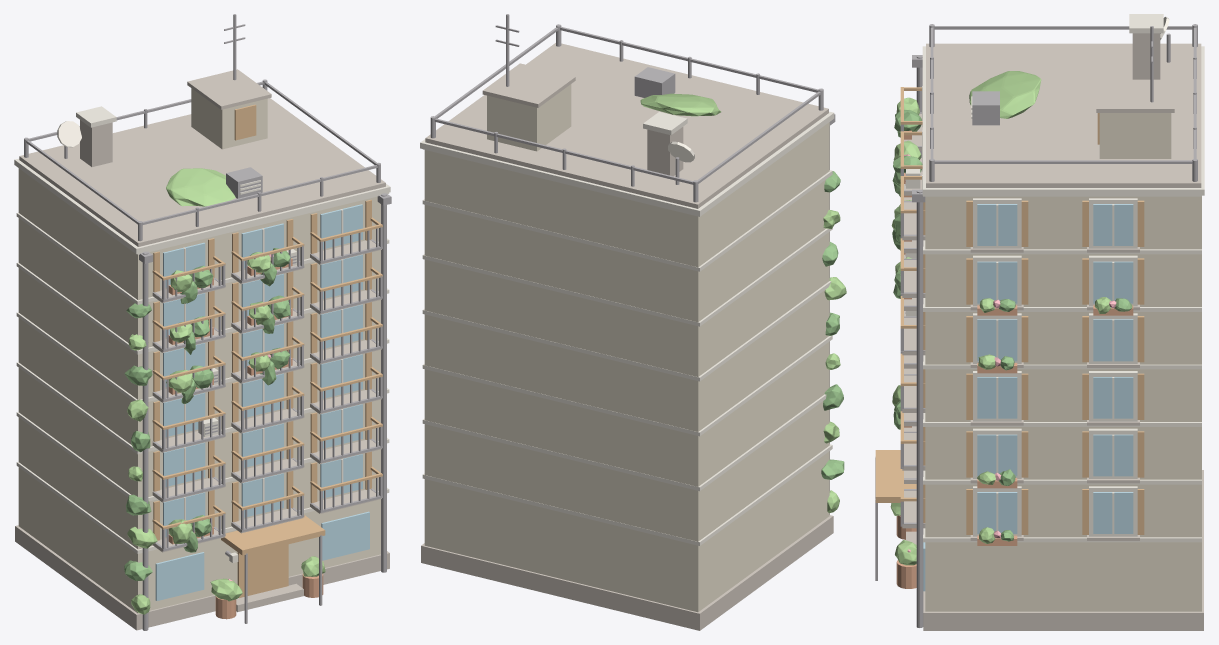
Rendered from Building_Apartment_C.fbx.
3 views of the same model, side by side, from view 1: azimuth 30°, elevation 25°; view 2: azimuth 150°, elevation 25°; view 3: azimuth 270°, elevation 25° (orthographic). The views are drawn at different scales.
Parts seen in each view (by area): view 1: Building_Apartment_C, Building_Apartment_C_Veg; view 2: Building_Apartment_C, Building_Apartment_C_Veg; view 3: Building_Apartment_C, Building_Apartment_C_Veg.
Boxes of the visible parts, x1,y1,x2,y2 form: Building_Apartment_C: [14, 14, 391, 630]; Building_Apartment_C_Veg: [124, 168, 325, 619]; Building_Apartment_C: [420, 14, 835, 630]; Building_Apartment_C_Veg: [640, 93, 846, 513]; Building_Apartment_C: [875, 14, 1204, 630]; Building_Apartment_C_Veg: [890, 71, 1133, 588].
Size of the model in its own units: 6.74 by 11.43 by 5.95.
